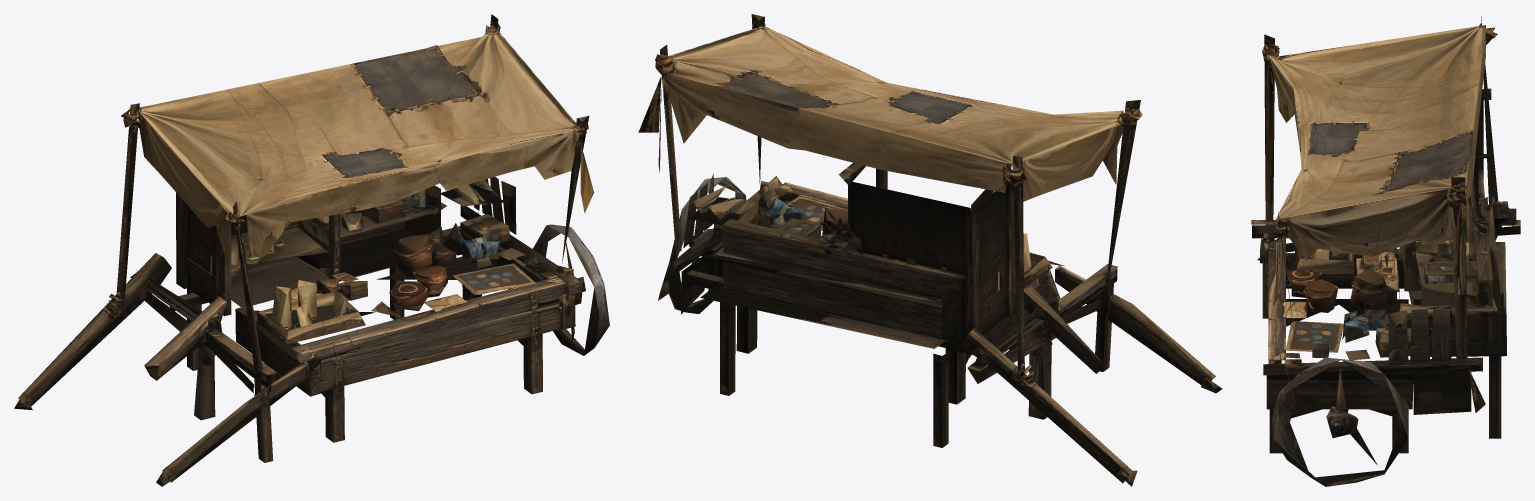
Rendered from act1_extras_v1_grave_goods_stall.glb.
The picture shows the model from 3 angles, left to right: view 1: azimuth 30°, elevation 25°; view 2: azimuth 150°, elevation 25°; view 3: azimuth 270°, elevation 25°; orthographic projection. The views are drawn at different scales.
Parts seen in each view (by area): view 1: A15_5_grave_goods_stall; view 2: A15_5_grave_goods_stall; view 3: A15_5_grave_goods_stall.
Part boxes in pixels (x1,y1,x2,y2): A15_5_grave_goods_stall: (14, 14, 609, 486); A15_5_grave_goods_stall: (638, 14, 1222, 486); A15_5_grave_goods_stall: (1251, 16, 1520, 486).
Bounding box in the file's own units: 0.9966 × 0.5674 × 0.4644.
Materials: 1 (1 with a texture image).
